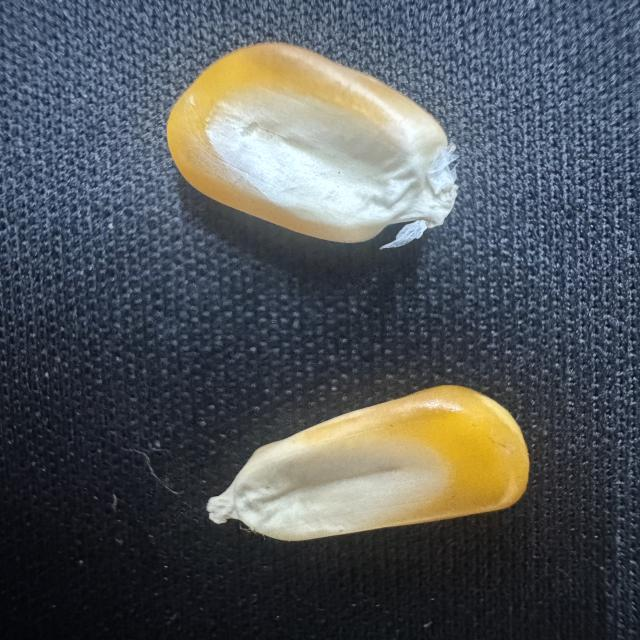Good-Seed: (163, 34, 467, 253), (191, 375, 536, 544)
